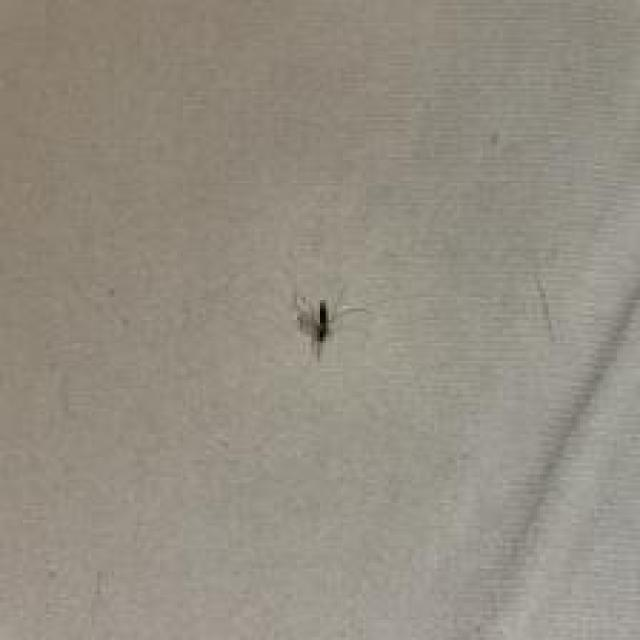Culex: (291, 290, 366, 361)
